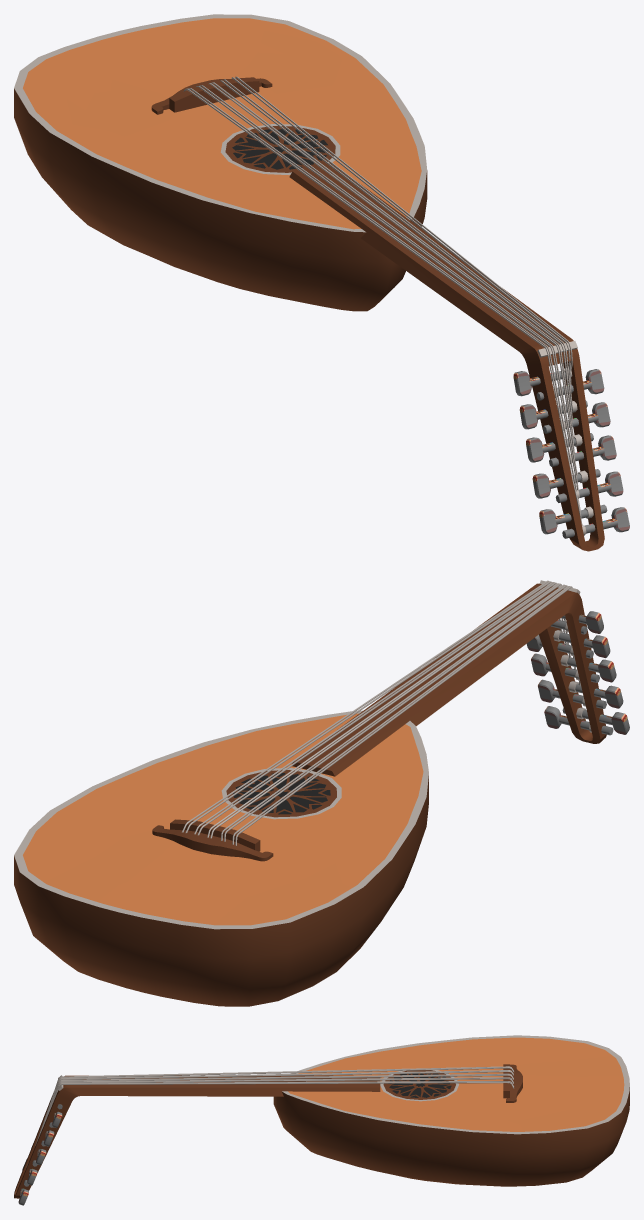
The model's file is Lute_01.fbx.
3 renders of one model, top to bottom at view 1: azimuth 30°, elevation 25°; view 2: azimuth 150°, elevation 25°; view 3: azimuth 270°, elevation 25°, orthographic. The views are drawn at different scales.
Parts seen in each view (by area): view 1: Lute_01; view 2: Lute_01; view 3: Lute_01.
Boxes of the visible parts, <box> form: Lute_01: <box>14,14,629,551</box>; Lute_01: <box>14,580,629,1006</box>; Lute_01: <box>14,1035,629,1205</box>.
Bounding box in the file's own units: 0.3567 × 0.2056 × 0.9378.
